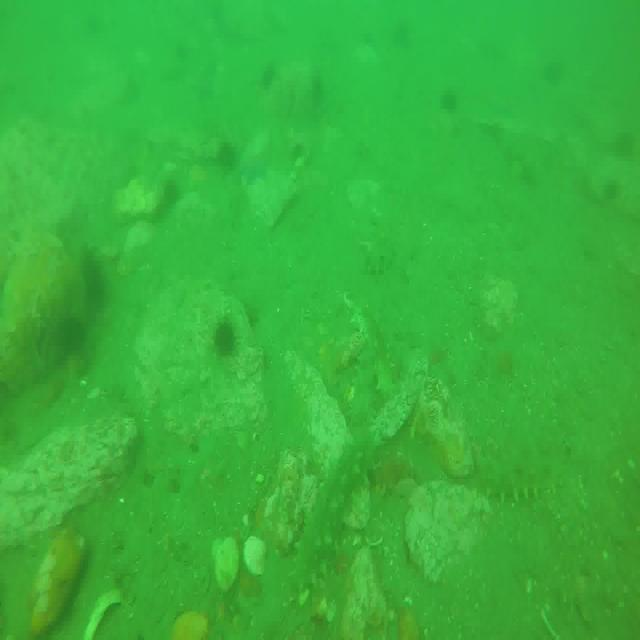echinus: (214, 320, 239, 360), (220, 139, 239, 169), (439, 90, 457, 111)
holothurian: (291, 443, 374, 595), (464, 464, 550, 498), (359, 242, 392, 268)
starfish: (237, 152, 272, 180)
